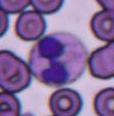N: (30, 32, 86, 86)
